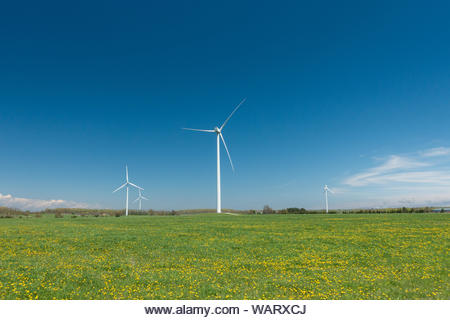faulty: (317, 181, 338, 220)
working: (177, 97, 256, 222), (106, 164, 142, 196), (133, 188, 151, 220)
